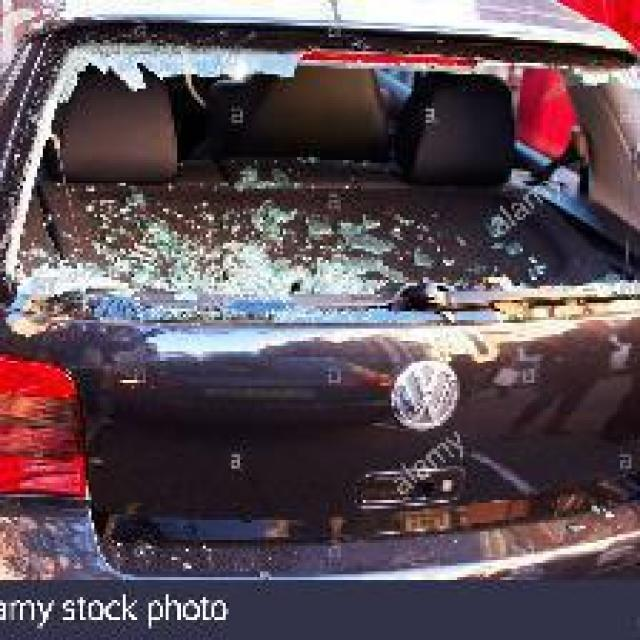damaged: (14, 40, 637, 329)
